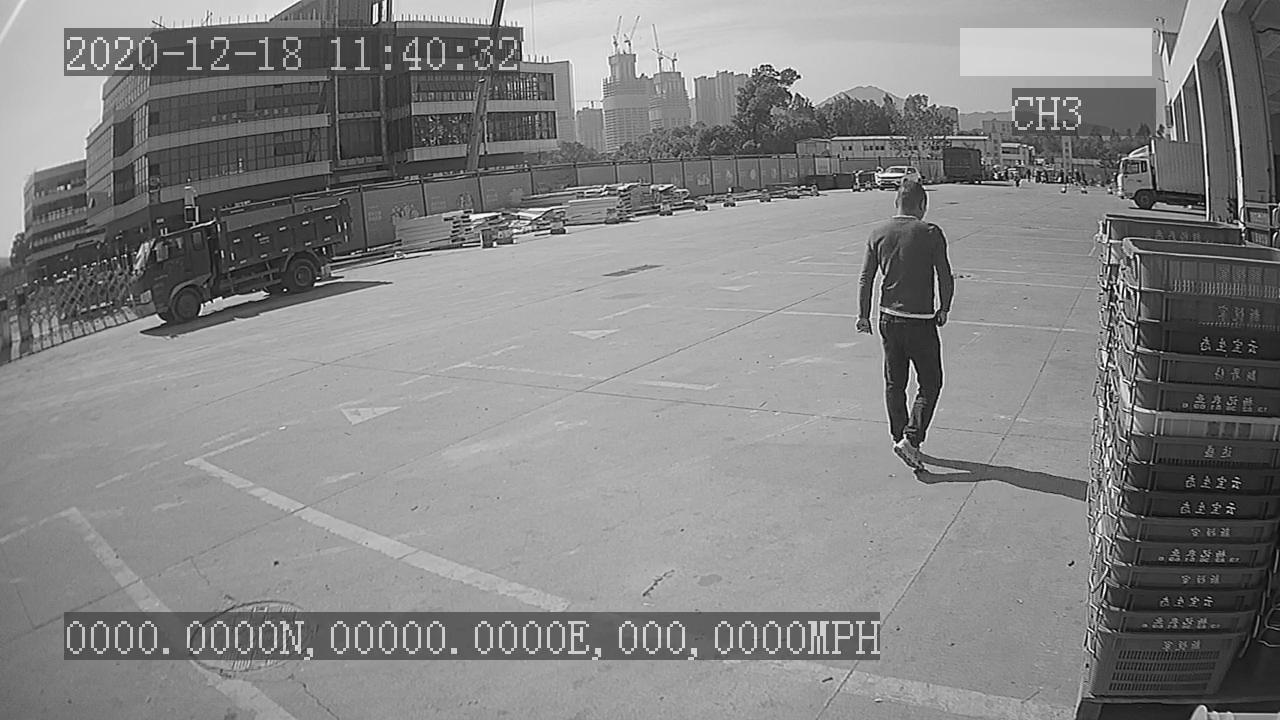person: (847, 180, 958, 470)
